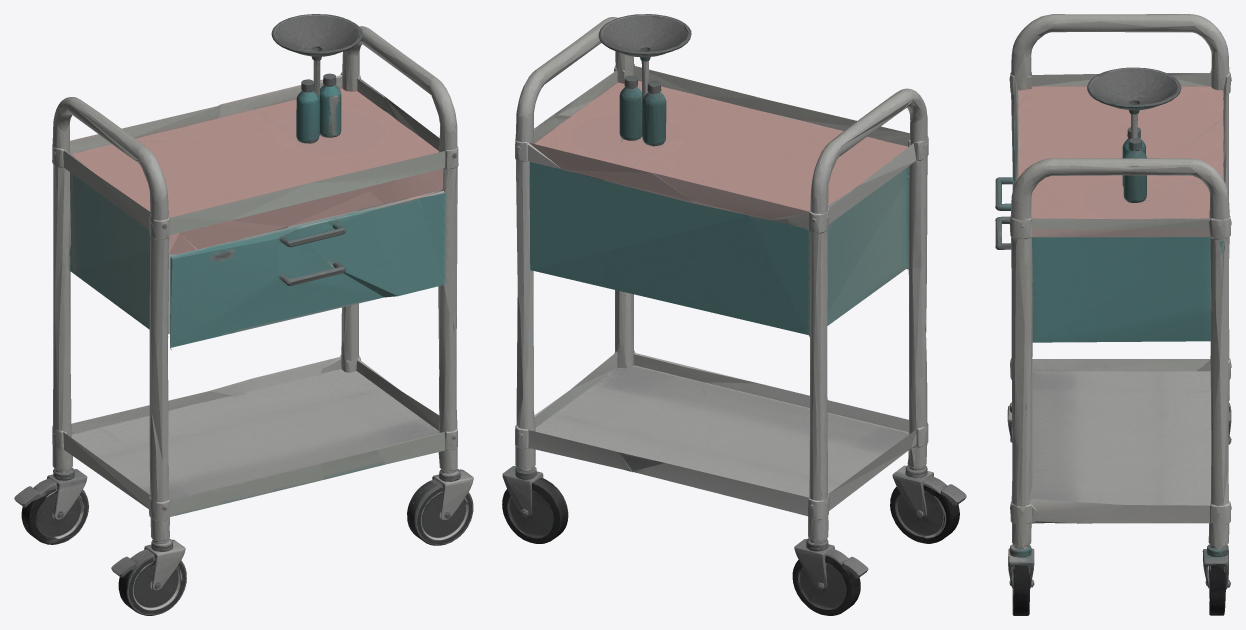
Rendered from carrello_B.glb.
The picture shows the model from 3 angles, left to right: view 1: azimuth 30°, elevation 25°; view 2: azimuth 150°, elevation 25°; view 3: azimuth 270°, elevation 25°; orthographic projection.
Bounding box in the file's own units: 1.45 × 1.9 × 0.8276.
Materials: 1 (1 with a texture image).
